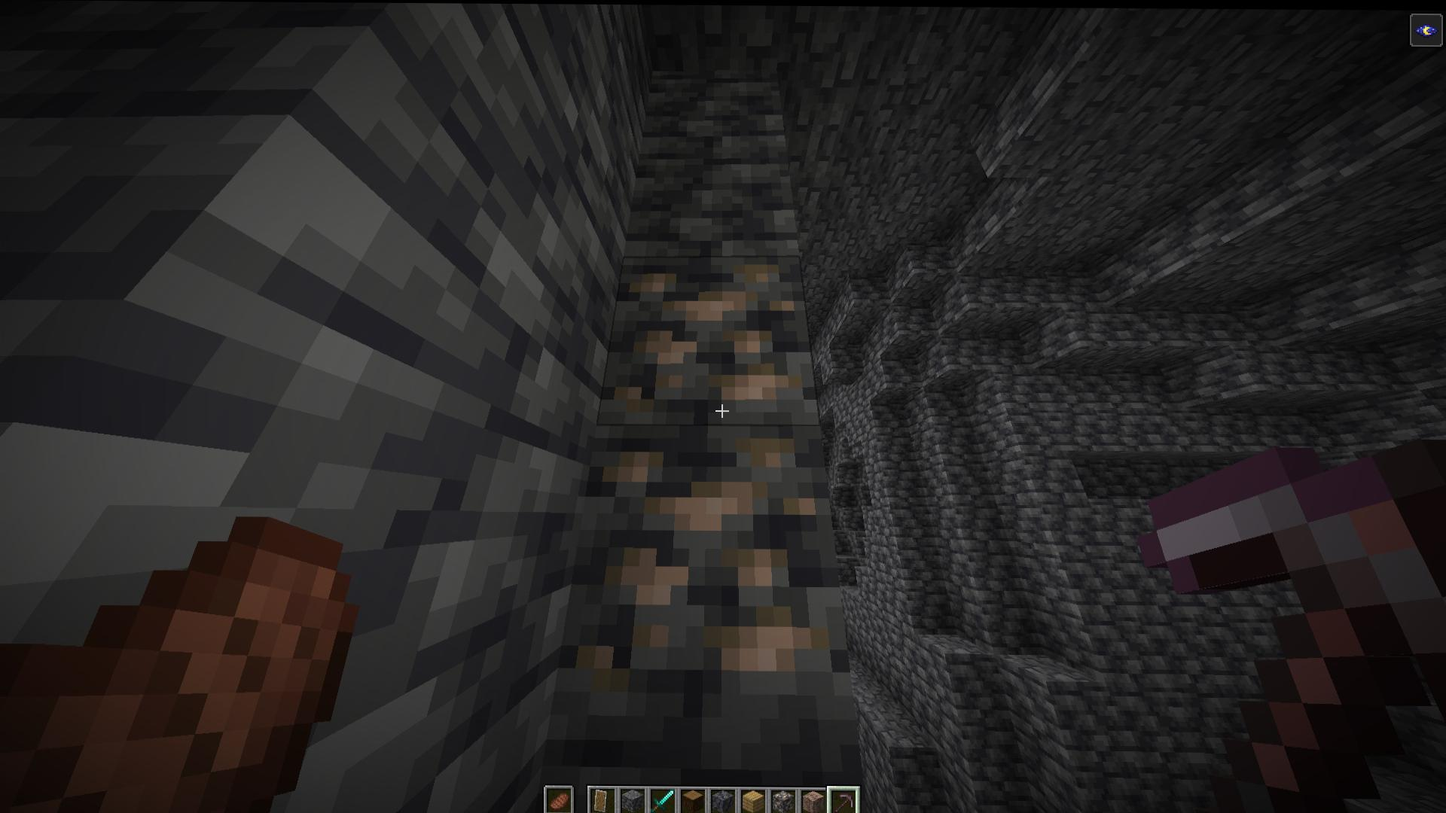iron ore: (584, 441, 828, 673), (607, 257, 825, 412)
